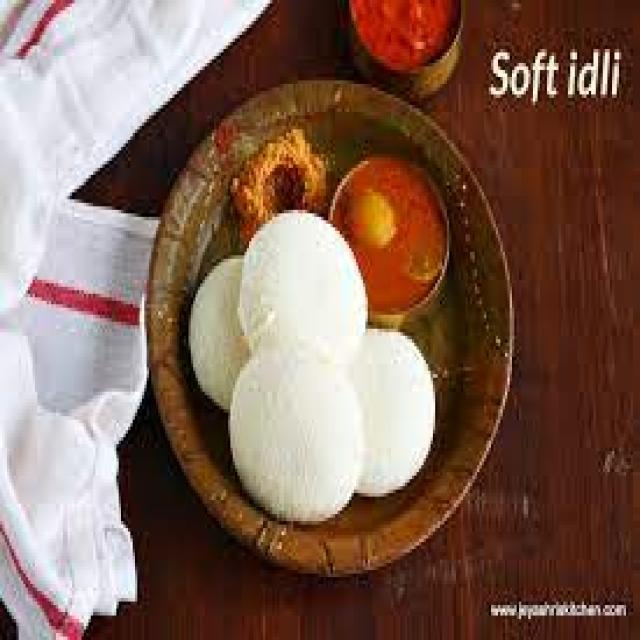idli: (225, 332, 368, 528), (235, 203, 368, 374), (337, 325, 433, 500), (188, 248, 282, 406)
